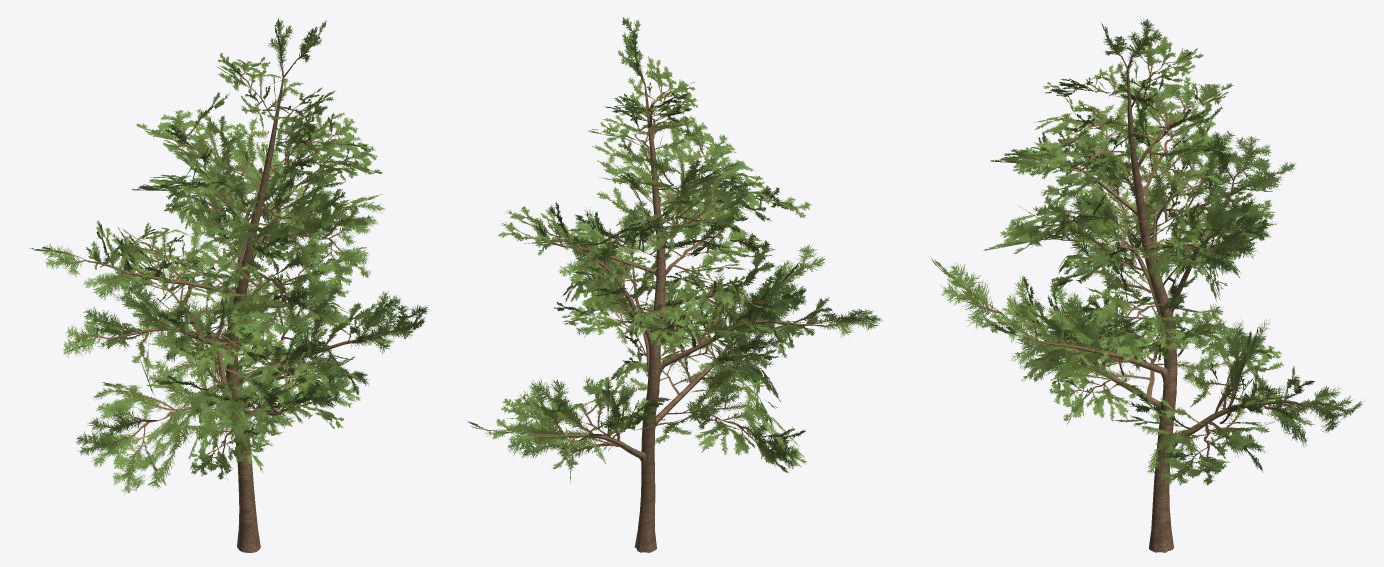
The picture shows the model from 3 angles, left to right: view 1: azimuth 30°, elevation 25°; view 2: azimuth 150°, elevation 25°; view 3: azimuth 270°, elevation 25°; orthographic projection. The views are drawn at different scales.
Parts seen in each view (by area): view 1: Pine_small_1_LOD0_Clusters_Mat_0; view 2: Pine_small_1_LOD0_Clusters_Mat_0; view 3: Pine_small_1_LOD0_Clusters_Mat_0.
Part boxes in pixels (x1,y1,x2,y2): Pine_small_1_LOD0_Clusters_Mat_0: [29, 18, 429, 552]; Pine_small_1_LOD0_Clusters_Mat_0: [467, 17, 881, 552]; Pine_small_1_LOD0_Clusters_Mat_0: [931, 19, 1366, 552].
Bounding box in the file's own units: 3.06 × 4.35 × 3.21.
